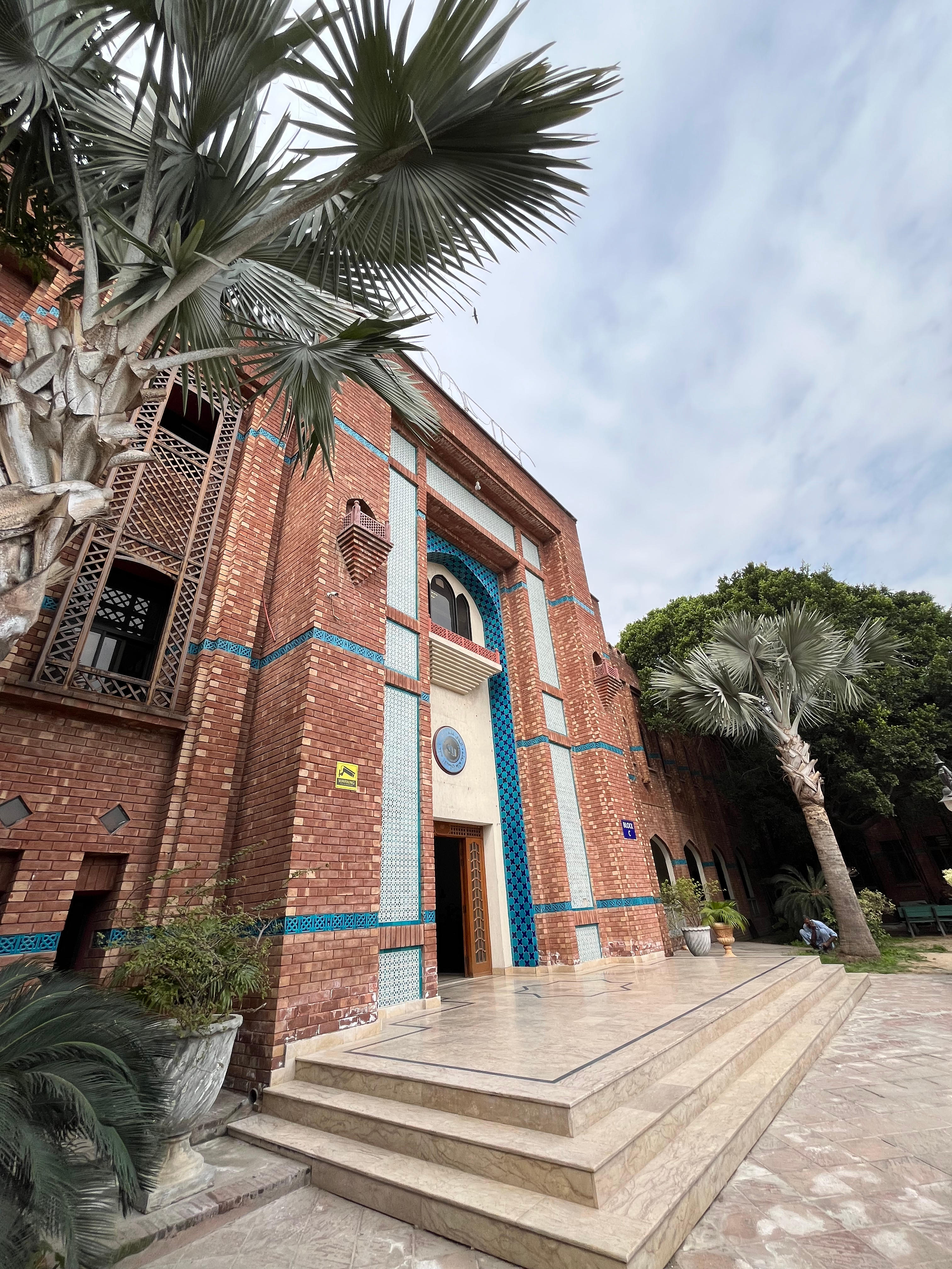Block C: (4, 131, 846, 1040)
